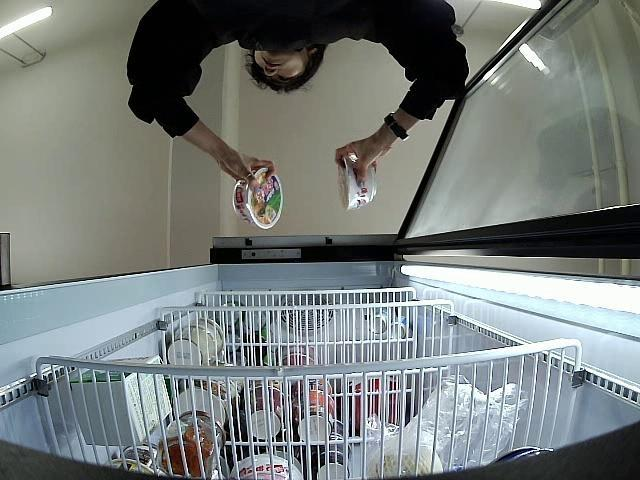09_yukGaeJang: (232, 166, 284, 229), (338, 150, 378, 210)
